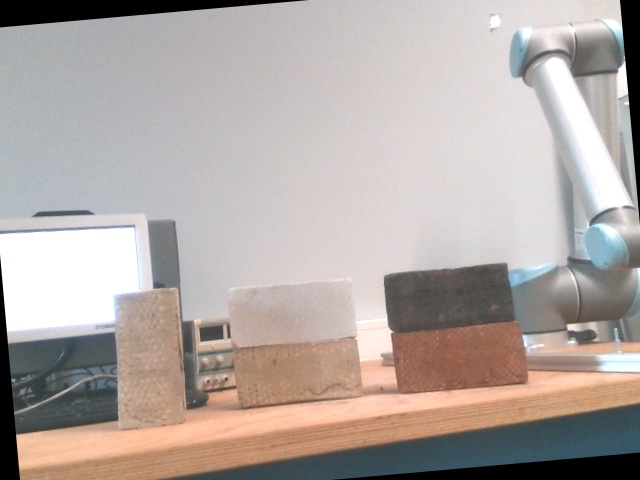brick: (111, 293, 182, 427), (385, 264, 511, 328), (233, 340, 359, 404), (395, 324, 522, 387), (227, 281, 353, 344)
